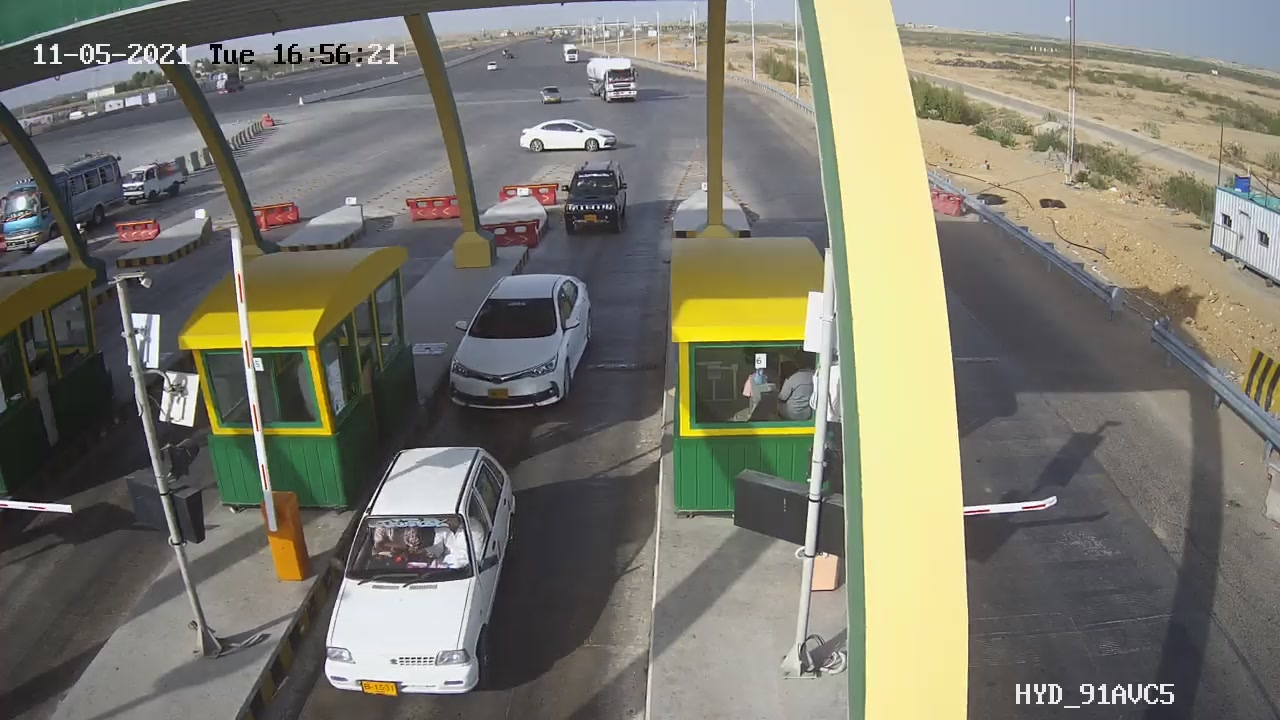F1: (432, 260, 610, 428), (549, 151, 644, 250)
